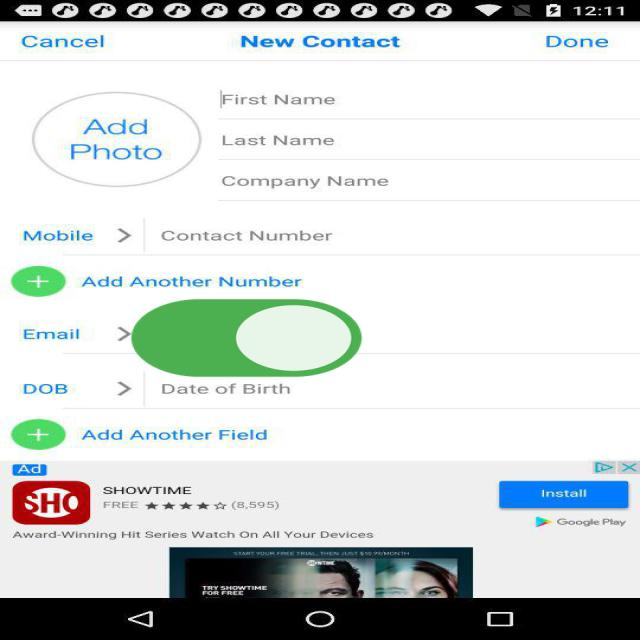social proof: (121, 269, 372, 413)
